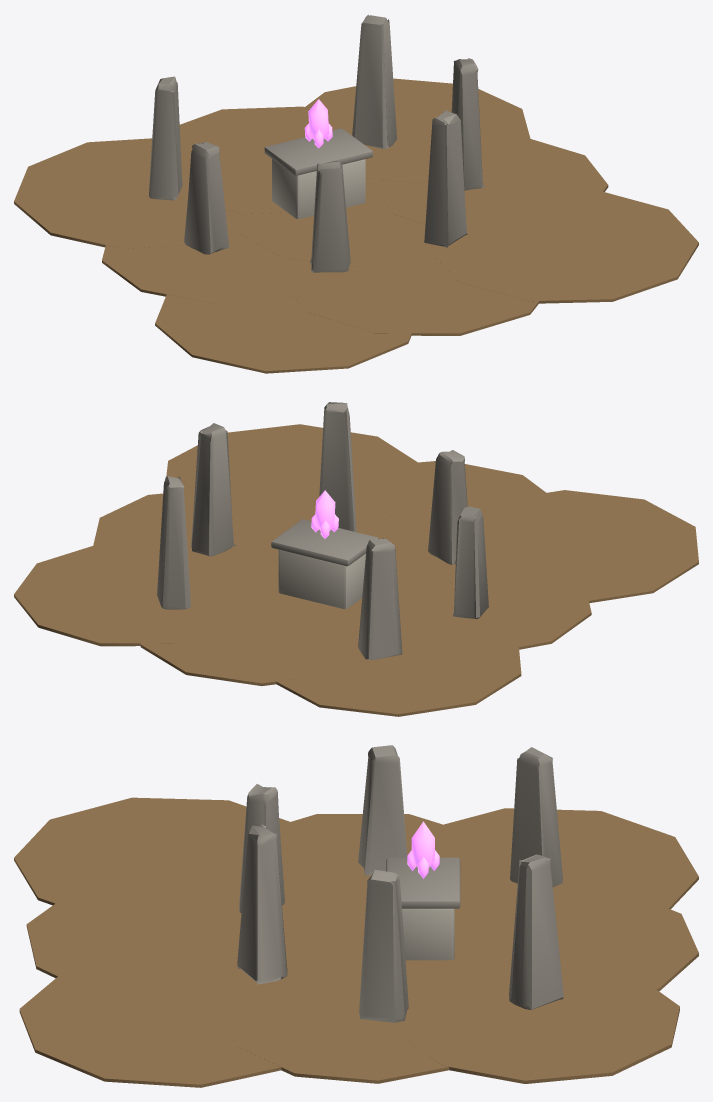
Rendered from budynek_fuzji_poz01.glb.
3 views of the same model, one above another, from view 1: azimuth 30°, elevation 25°; view 2: azimuth 150°, elevation 25°; view 3: azimuth 270°, elevation 25° (orthographic). The views are drawn at different scales.
Visible parts, largest first — view 1: budynek_fuzji_poz01; view 2: budynek_fuzji_poz01; view 3: budynek_fuzji_poz01.
Boxes of the visible parts, x1,y1,x2,y2 form: budynek_fuzji_poz01: [14, 14, 698, 373]; budynek_fuzji_poz01: [14, 402, 698, 716]; budynek_fuzji_poz01: [14, 745, 698, 1087].
Size of the model in its own units: 8.73 by 2.13 by 8.8.
